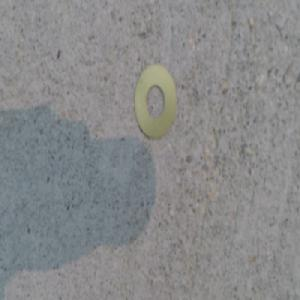Washer: (133, 66, 178, 144)
